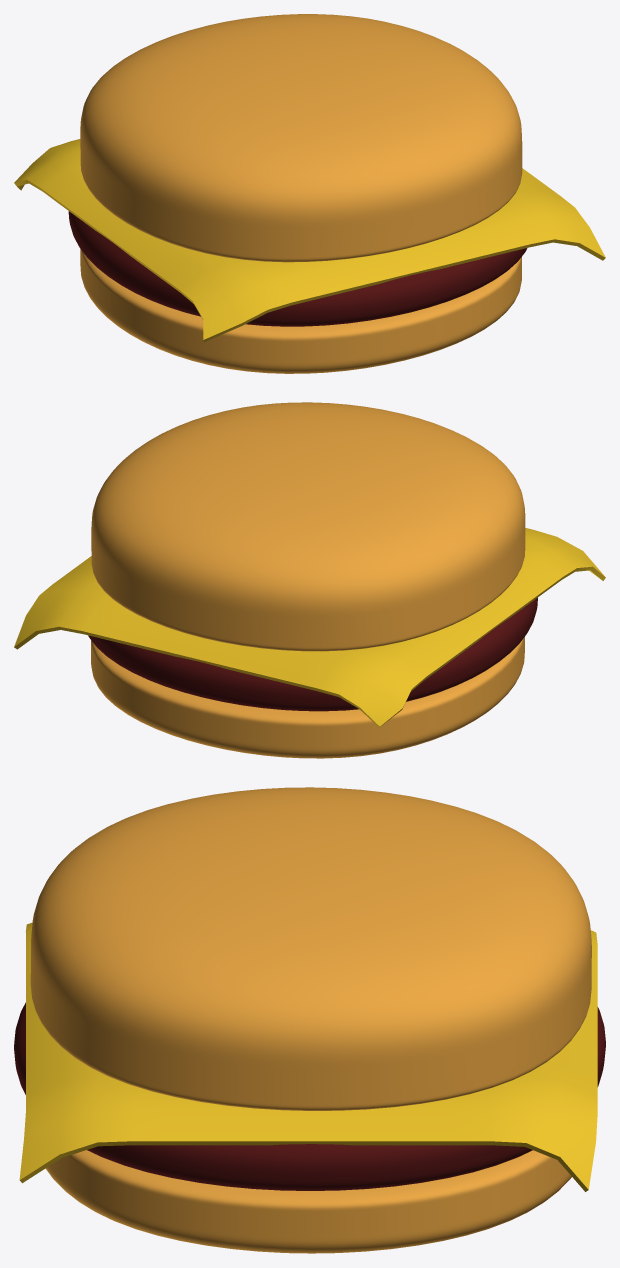
The model's file is hamburger.glb.
The picture shows the model from 3 angles, top to bottom: view 1: azimuth 30°, elevation 25°; view 2: azimuth 150°, elevation 25°; view 3: azimuth 270°, elevation 25°; orthographic projection. The views are drawn at different scales.
Parts seen in each view (by area): view 1: 立方体, 平面, 立方体.002, 立方体.001; view 2: 立方体, 平面, 立方体.002, 立方体.001; view 3: 立方体, 平面, 立方体.002, 立方体.001.
Boxes of the visible parts, x1,y1,x2,y2 form: 立方体: (80,14,522,262); 平面: (14,139,605,341); 立方体.002: (80,249,521,373); 立方体.001: (68,211,527,326); 立方体: (91,402,525,651); 平面: (14,528,605,727); 立方体.002: (91,637,524,758); 立方体.001: (88,597,537,711); 立方体: (30,787,591,1110); 平面: (19,922,597,1191); 立方体.002: (45,1150,571,1253); 立方体.001: (14,1002,605,1190).
Bounding box in the file's own units: 9.74 × 5.4 × 9.69.
